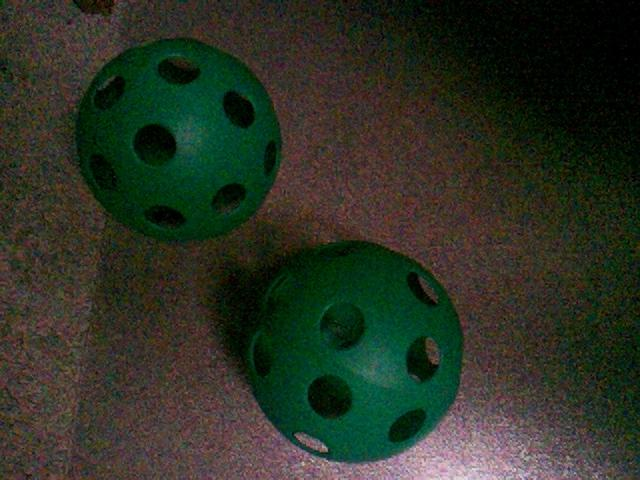Green: (246, 241, 462, 464), (76, 40, 282, 239)
